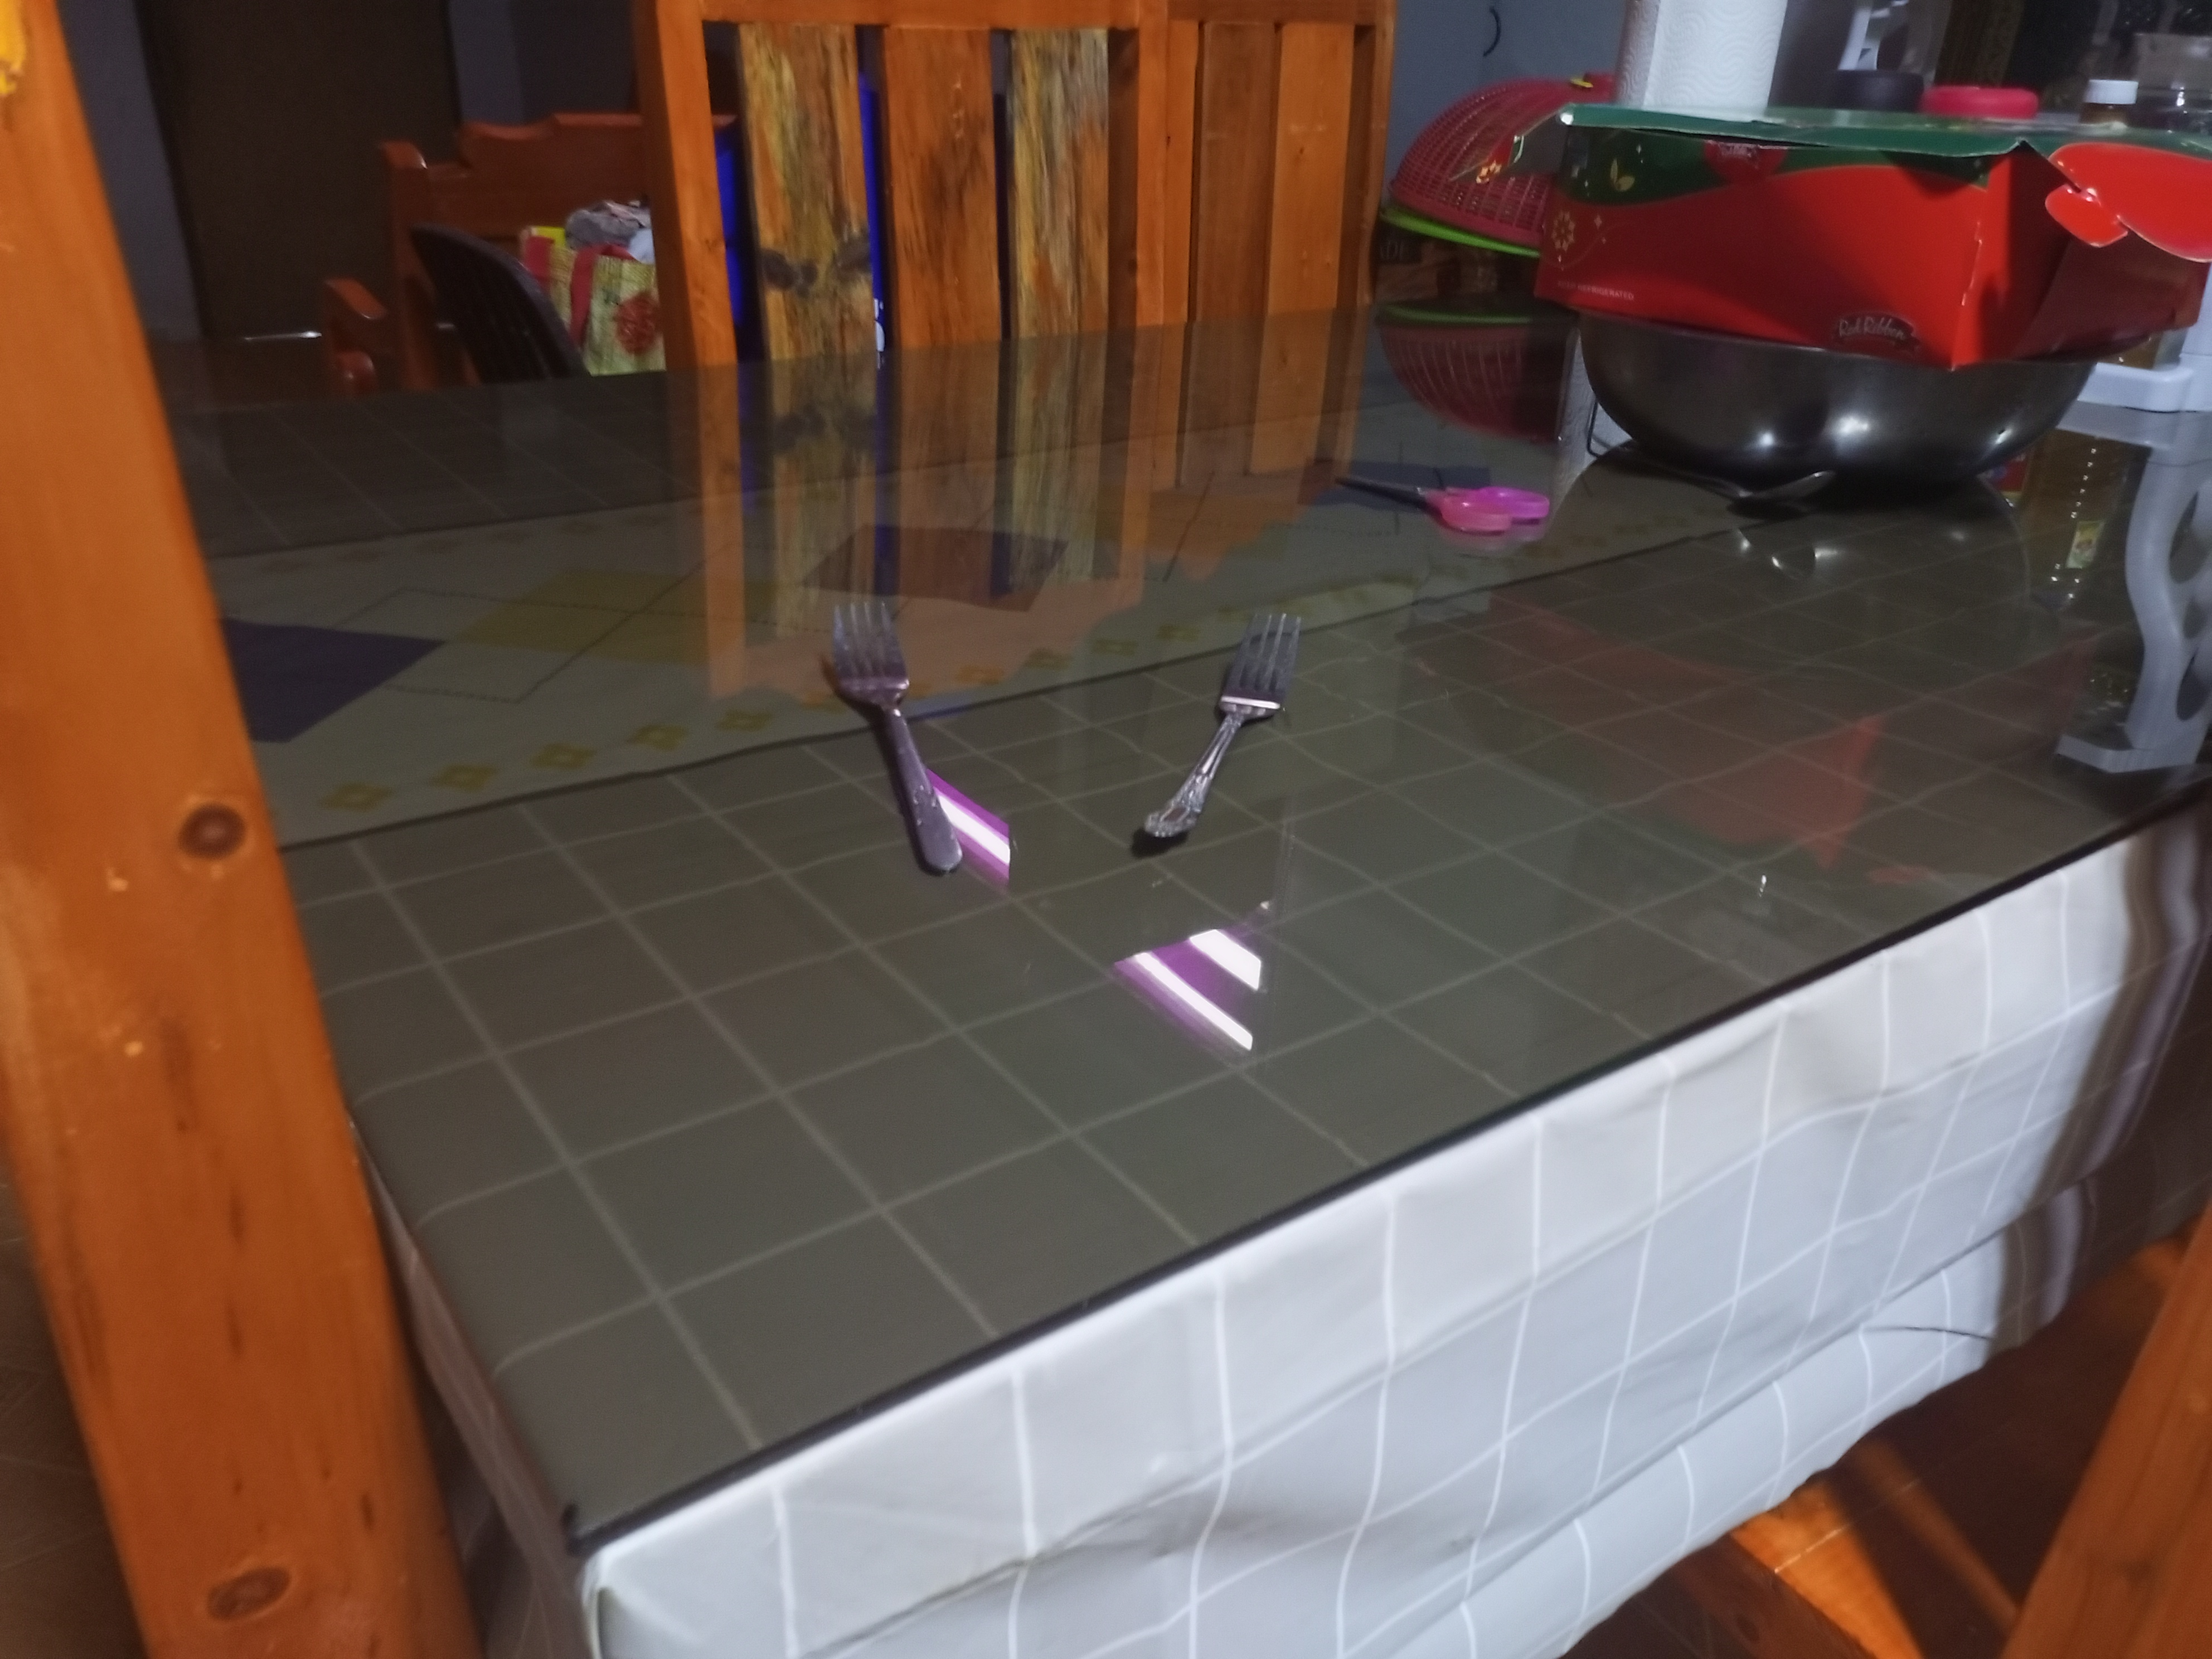fork: (820, 594, 977, 878), (1144, 612, 1308, 842)
